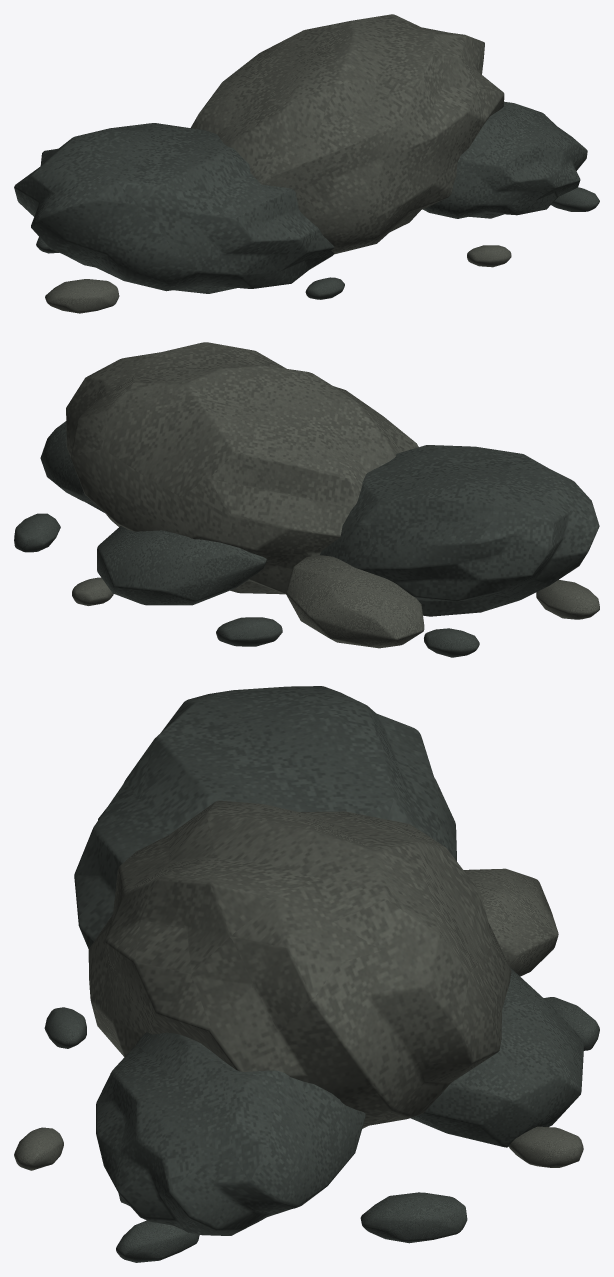
Rendered from prop_rock_03.glb.
The picture shows the model from 3 angles, top to bottom: view 1: azimuth 30°, elevation 25°; view 2: azimuth 150°, elevation 25°; view 3: azimuth 270°, elevation 25°; orthographic projection. The views are drawn at different scales.
Visible parts, largest first — view 1: RiverBoulder_01, RiverBoulder_00, RiverBoulder_02, RiverPebble_00, RiverPebble_05, RiverPebble_06, RiverPebble_07; view 2: RiverBoulder_01, RiverBoulder_00, RiverBoulder_03, RiverBoulder_04, RiverBoulder_02, RiverPebble_00, RiverPebble_02, RiverPebble_04, RiverPebble_01, RiverPebble_03; view 3: RiverBoulder_01, RiverBoulder_00, RiverBoulder_02, RiverBoulder_03, RiverBoulder_04, RiverPebble_04, RiverPebble_05, RiverPebble_03, RiverPebble_06, RiverPebble_07, RiverPebble_02.
Part boxes in pixels (<box>): RiverBoulder_01: <box>190,14,504,254</box>; RiverBoulder_00: <box>14,123,334,293</box>; RiverBoulder_02: <box>423,101,587,218</box>; RiverPebble_00: <box>45,279,119,313</box>; RiverPebble_05: <box>551,187,599,211</box>; RiverPebble_06: <box>467,245,511,267</box>; RiverPebble_07: <box>305,277,344,299</box>; RiverBoulder_01: <box>66,342,418,594</box>; RiverBoulder_00: <box>320,445,599,616</box>; RiverBoulder_03: <box>97,526,266,605</box>; RiverBoulder_04: <box>285,555,424,648</box>; RiverBoulder_02: <box>40,421,104,512</box>; RiverPebble_00: <box>536,580,599,619</box>; RiverPebble_02: <box>216,617,282,646</box>; RiverPebble_04: <box>14,513,60,552</box>; RiverPebble_01: <box>424,628,479,657</box>; RiverPebble_03: <box>72,577,113,605</box>; RiverBoulder_01: <box>88,800,511,1128</box>; RiverBoulder_00: <box>74,686,456,948</box>; RiverBoulder_02: <box>96,1032,365,1235</box>; RiverBoulder_03: <box>410,967,584,1147</box>; RiverBoulder_04: <box>463,868,558,976</box>; RiverPebble_04: <box>360,1192,467,1243</box>; RiverPebble_05: <box>116,1220,199,1262</box>; RiverPebble_03: <box>509,1126,583,1167</box>; RiverPebble_06: <box>14,1127,63,1170</box>; RiverPebble_07: <box>44,1007,86,1048</box>; RiverPebble_02: <box>544,997,599,1050</box>.
Bounding box in the file's own units: 3.01 × 1.06 × 1.78.
2 materials, 2 textured.
